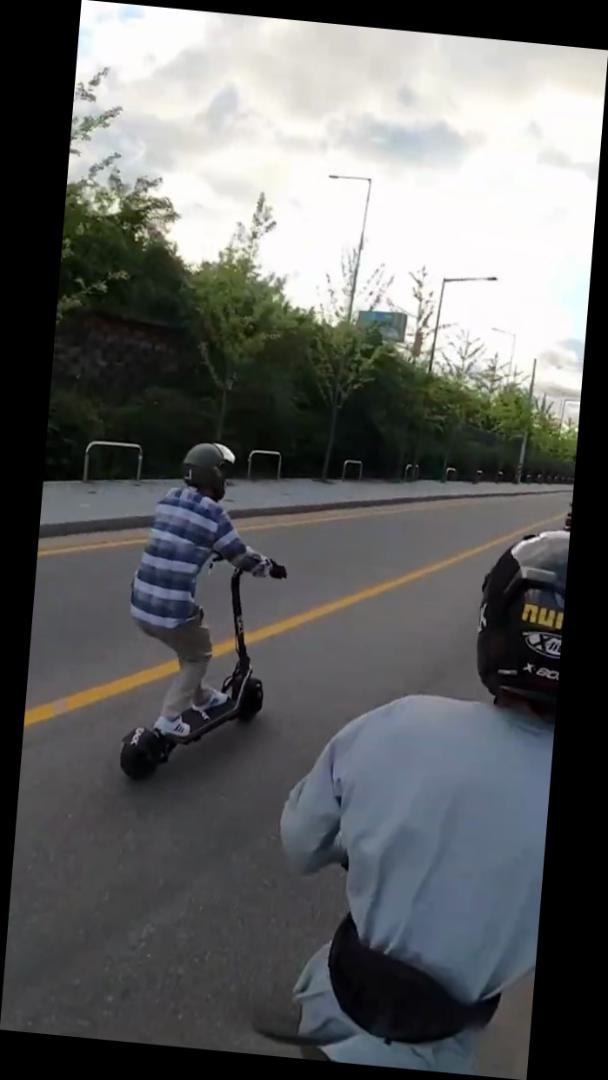helmet: (112, 430, 300, 800)
